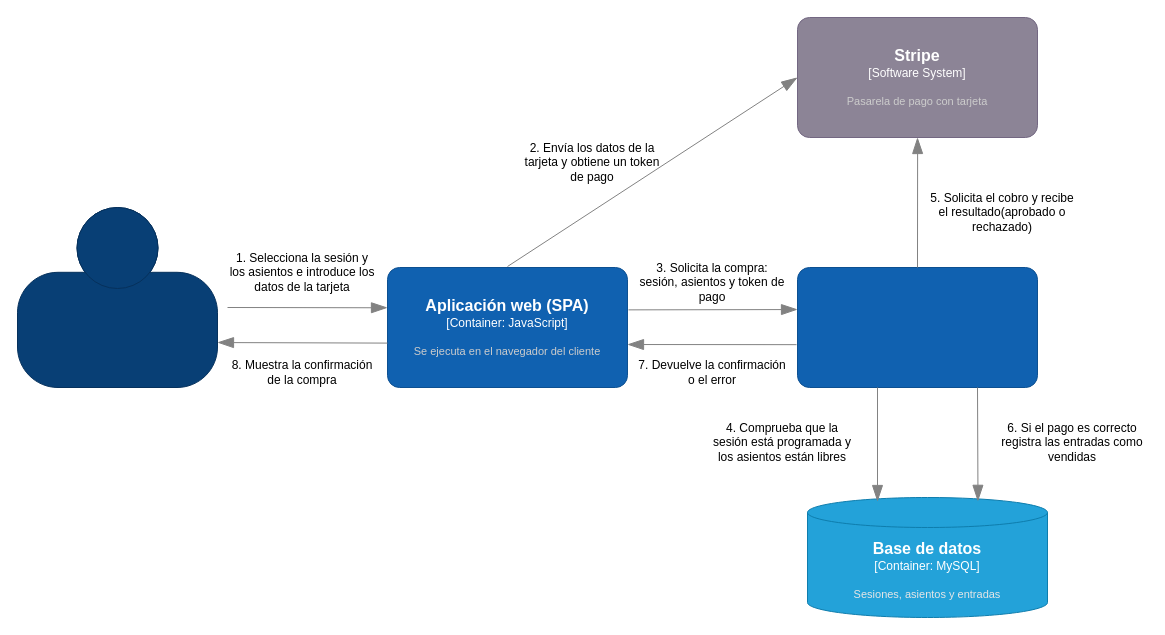
Image size: 1165x635. Some labels were removed from this diagram. The shapes that lost their labels are listed below. From the top down, each one's centre as x and y in pixels, then its label:
At (x=117, y=297): "Cliente [Person] Usuario registrado con sesión iniciada".
At (x=917, y=327): "API REST [Container: ...] Valida la compra y aplica las reglas de negocio".
